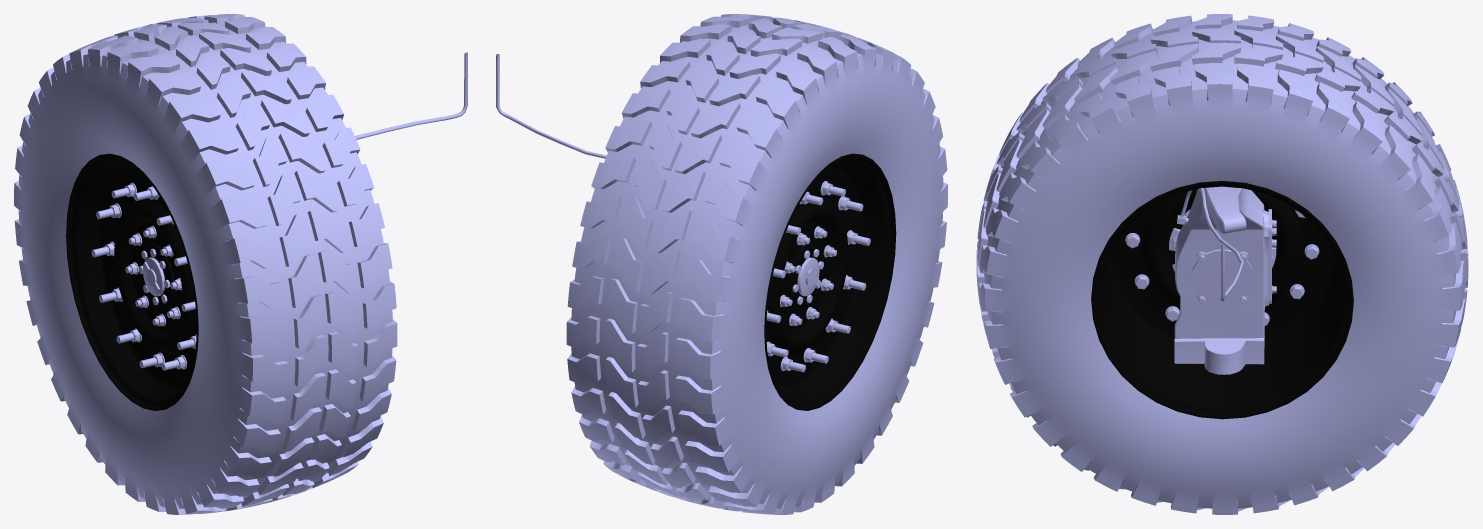
Rendered from wheel_FR.fbx.
The picture shows the model from 3 angles, left to right: view 1: azimuth 30°, elevation 25°; view 2: azimuth 150°, elevation 25°; view 3: azimuth 270°, elevation 25°; orthographic projection.
Parts seen in each view (by area): view 1: wheel001, brake_hose001; view 2: wheel001, brake_hose001; view 3: wheel001, brake001, brake_hose001.
Boxes of the visible parts, box(x1,y1,x2,y2) form: wheel001: box(14, 14, 397, 514); brake_hose001: box(355, 52, 467, 139); wheel001: box(566, 14, 947, 514); brake_hose001: box(496, 54, 606, 158); wheel001: box(976, 14, 1468, 514); brake001: box(1174, 186, 1271, 374); brake_hose001: box(1180, 188, 1243, 301).
Bounding box in the file's own units: 75.07 × 94.15 × 94.16.
